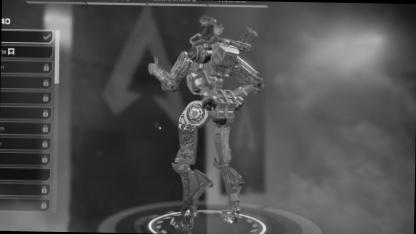Target: (173, 12, 248, 188)
